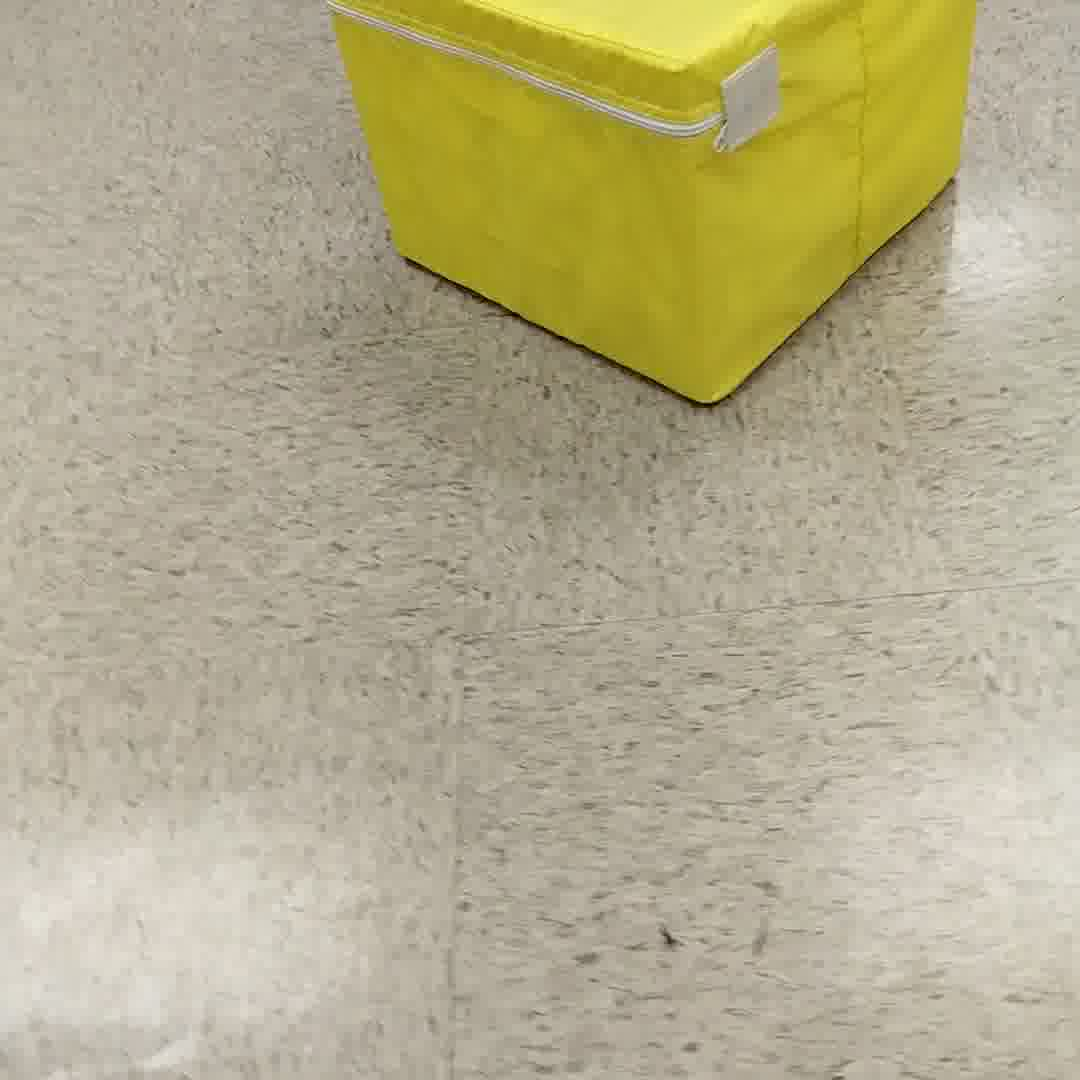box: (327, 7, 960, 415)
